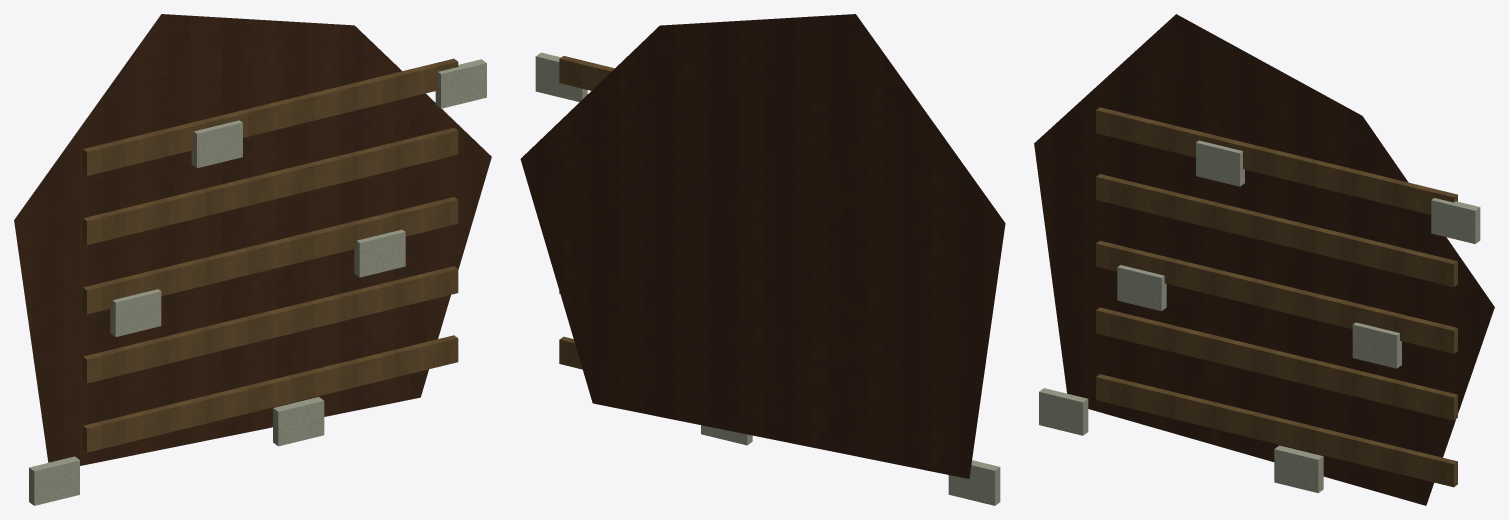
Rendered from level_trace_wall_damage.glb.
3 views of the same model, side by side, from view 1: azimuth 30°, elevation 25°; view 2: azimuth 150°, elevation 25°; view 3: azimuth 330°, elevation 25° (orthographic). The views are drawn at different scales.
Visible parts, largest first — view 1: level_trace_wall_damage; view 2: level_trace_wall_damage; view 3: level_trace_wall_damage.
Boxes of the visible parts, x1=… form: level_trace_wall_damage: x1=14, y1=14, x2=491, y2=505; level_trace_wall_damage: x1=520, y1=14, x2=1005, y2=505; level_trace_wall_damage: x1=1034, y1=14, x2=1494, y2=505.
Size of the model in its own units: 0.94 by 0.8525 by 0.026.
3 materials, 3 textured.
